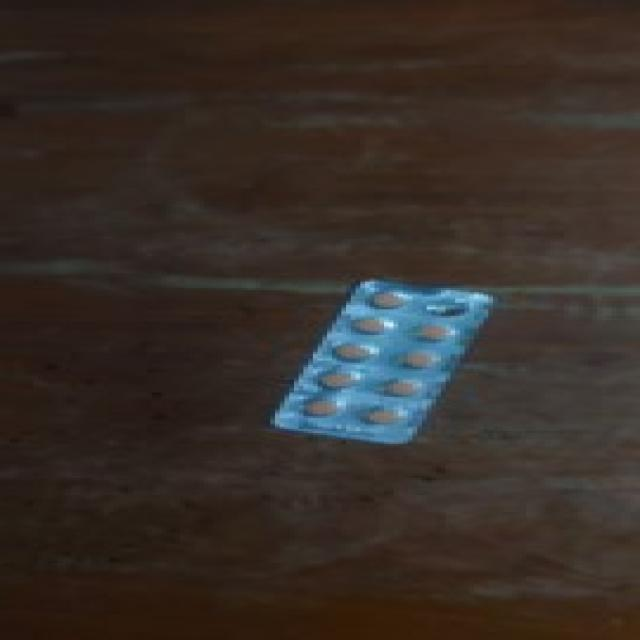Cacat: (272, 274, 496, 449)
Kemasan: (410, 296, 479, 326)
